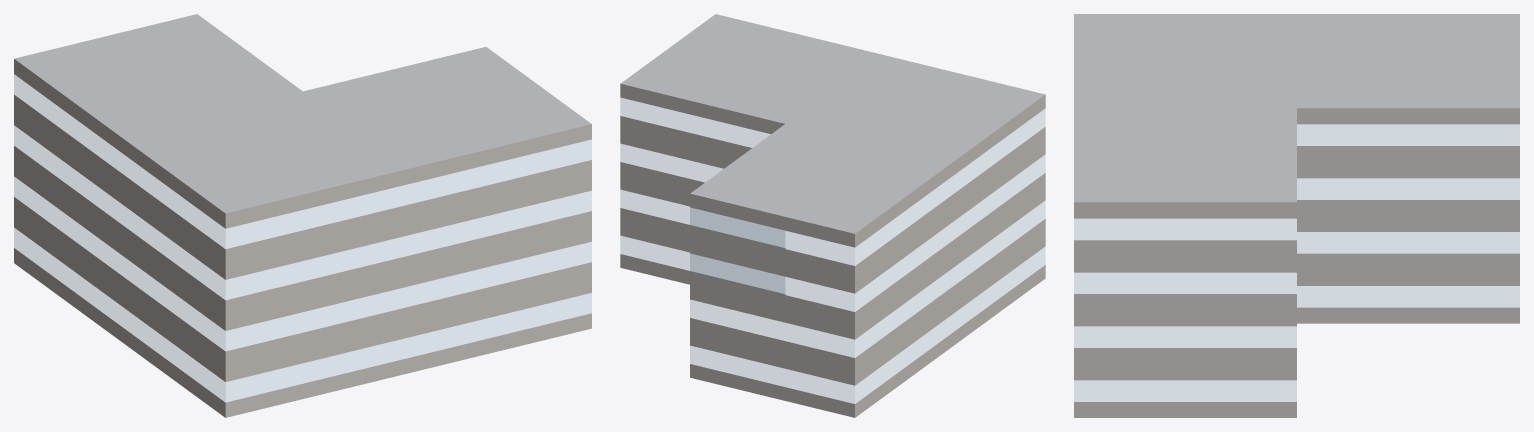
The picture shows the model from 3 angles, left to right: view 1: azimuth 30°, elevation 25°; view 2: azimuth 150°, elevation 25°; view 3: azimuth 270°, elevation 25°; orthographic projection. The views are drawn at different scales.
Visible parts, largest first — view 1: Dinding Bata, Atap Beton, Kaca Jendela; view 2: Dinding Bata, Atap Beton, Kaca Jendela; view 3: Atap Beton, Dinding Bata, Kaca Jendela.
Boxes of the visible parts, x1,y1,x2,y2 form: Dinding Bata: (14, 59, 591, 417); Atap Beton: (14, 14, 591, 213); Kaca Jendela: (14, 74, 591, 402); Dinding Bata: (620, 83, 1045, 417); Atap Beton: (621, 14, 1045, 233); Kaca Jendela: (620, 98, 1045, 403); Atap Beton: (1074, 14, 1519, 202); Dinding Bata: (1074, 108, 1519, 417); Kaca Jendela: (1074, 124, 1519, 401).
Bounding box in the file's own units: 30 × 16 × 30.
